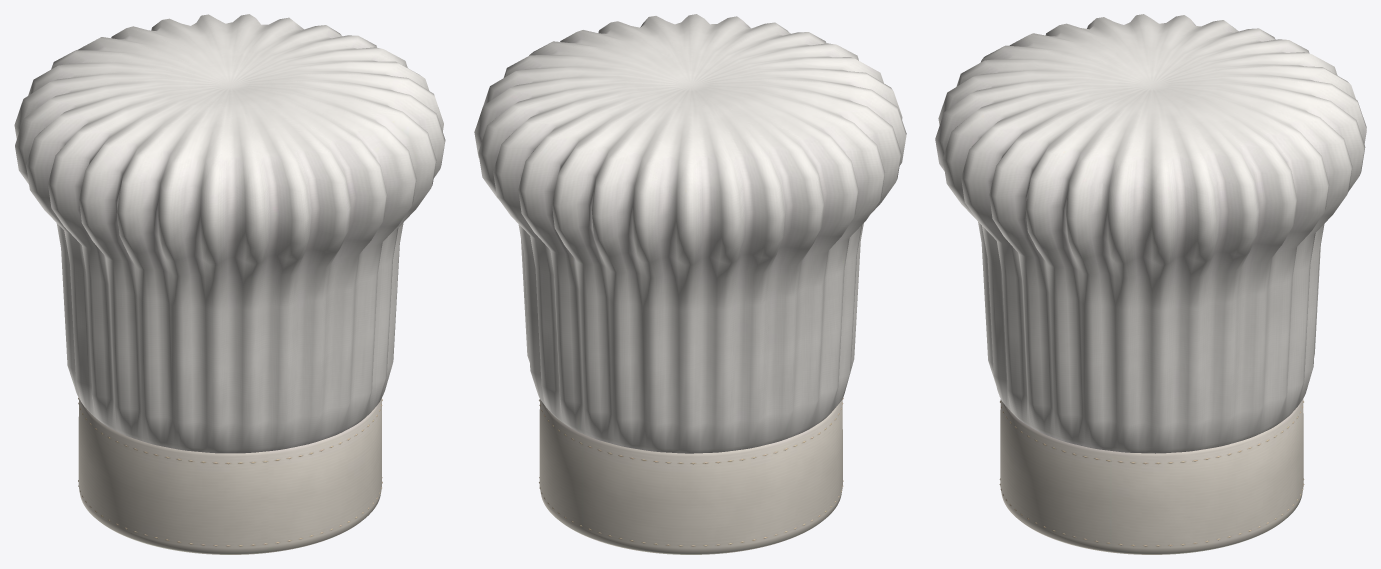
Rendered from chef-hat.glb.
3 views of the same model, side by side, from view 1: azimuth 30°, elevation 25°; view 2: azimuth 150°, elevation 25°; view 3: azimuth 270°, elevation 25° (orthographic).
Visible parts, largest first — view 1: chef-hat_body; view 2: chef-hat_body; view 3: chef-hat_body.
Part boxes in pixels (left/top/right/bottom): chef-hat_body: left=14, top=14, right=445, bottom=554; chef-hat_body: left=474, top=14, right=906, bottom=554; chef-hat_body: left=935, top=14, right=1366, bottom=554.
Size of the model in its own units: 0.2662 by 0.281 by 0.2655.
Materials: 1 (1 with a texture image).
